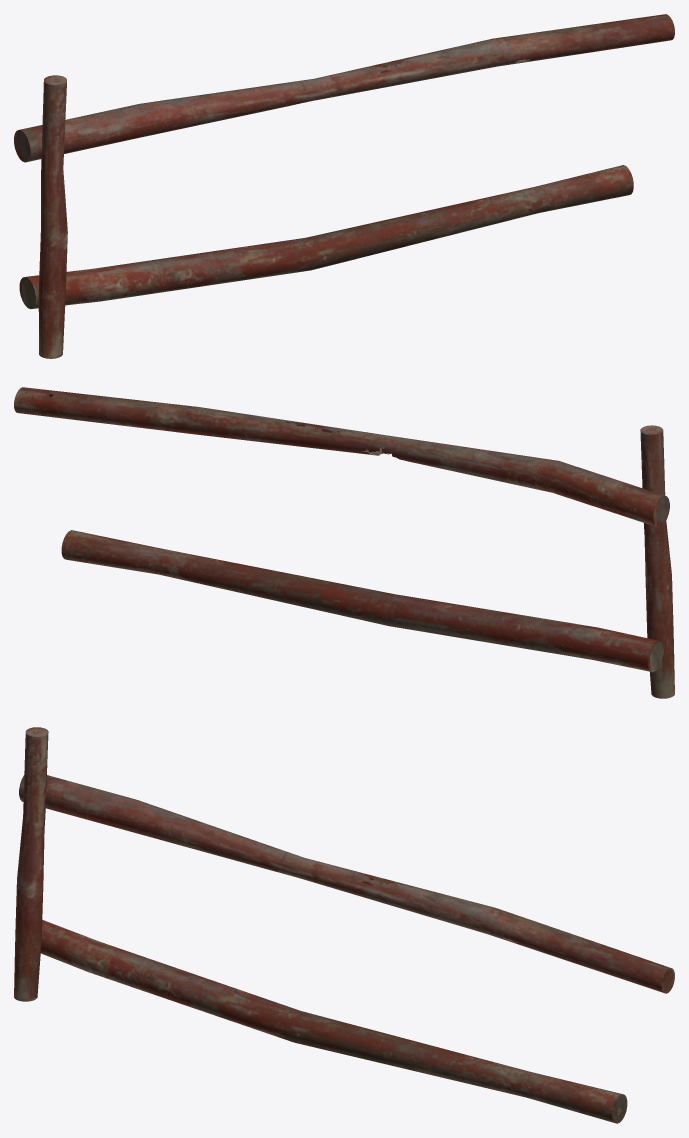
Rendered from OU_AR_Fench_01_D.fbx.
3 views of the same model, one above another, from view 1: azimuth 30°, elevation 25°; view 2: azimuth 150°, elevation 25°; view 3: azimuth 330°, elevation 25° (orthographic).
Parts seen in each view (by area): view 1: fench; view 2: fench; view 3: fench.
Part boxes in pixels (x1,y1,x2,y2): fench: (14, 14, 674, 358); fench: (14, 387, 674, 698); fench: (14, 727, 674, 1123).
Bounding box in the file's own units: 300 × 119 × 25.18.
Materials: 1 (1 with a texture image).
